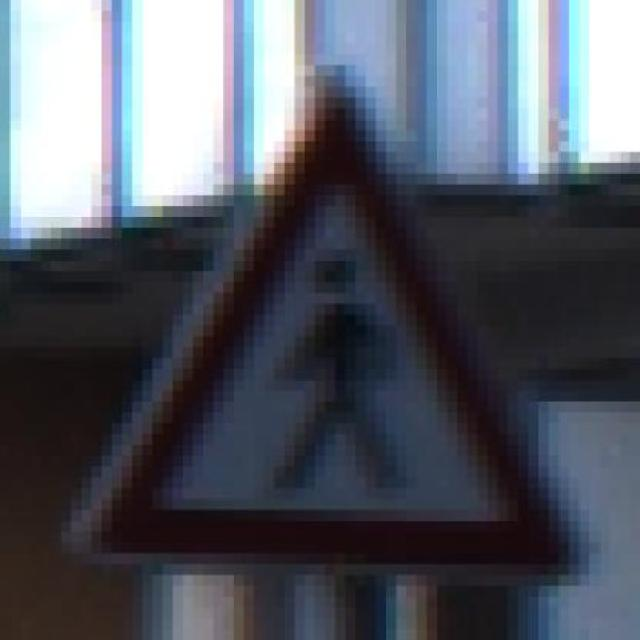Pedestrian Crossing: (71, 76, 589, 586)
